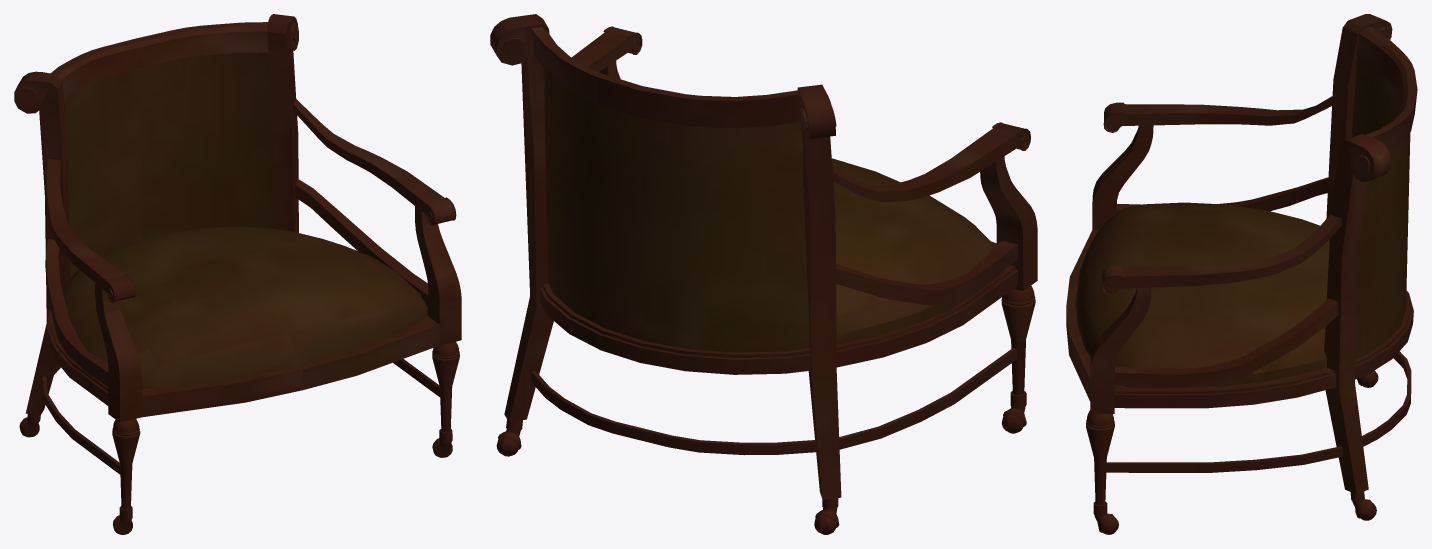
File: armchair-90s.gltf
3 renders of one model, left to right at view 1: azimuth 30°, elevation 25°; view 2: azimuth 150°, elevation 25°; view 3: azimuth 270°, elevation 25°, orthographic. The views are drawn at different scales.
Visible parts, largest first — view 1: armchair; view 2: armchair; view 3: armchair.
Part boxes in pixels (<box>): armchair: <box>14,14,461,534</box>; armchair: <box>490,14,1037,534</box>; armchair: <box>1066,14,1417,534</box>.
Bounding box in the file's own units: 1.05 × 1.05 × 0.8955.
1 material, 1 textured.
